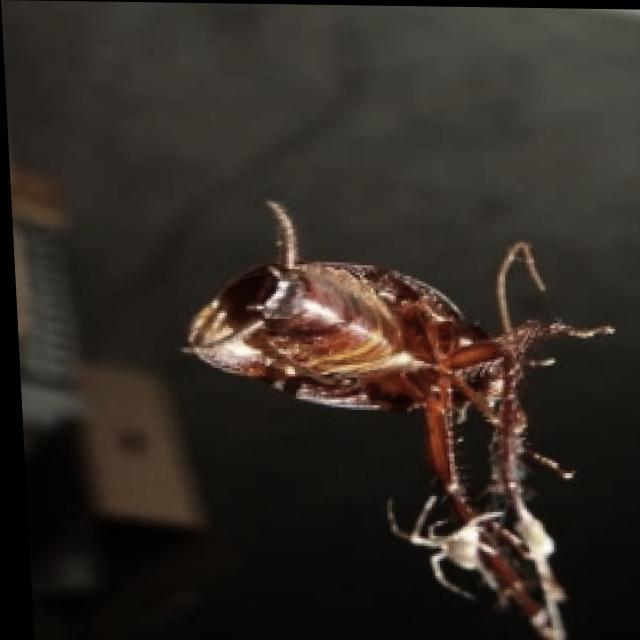cockroach: (180, 196, 619, 638)
